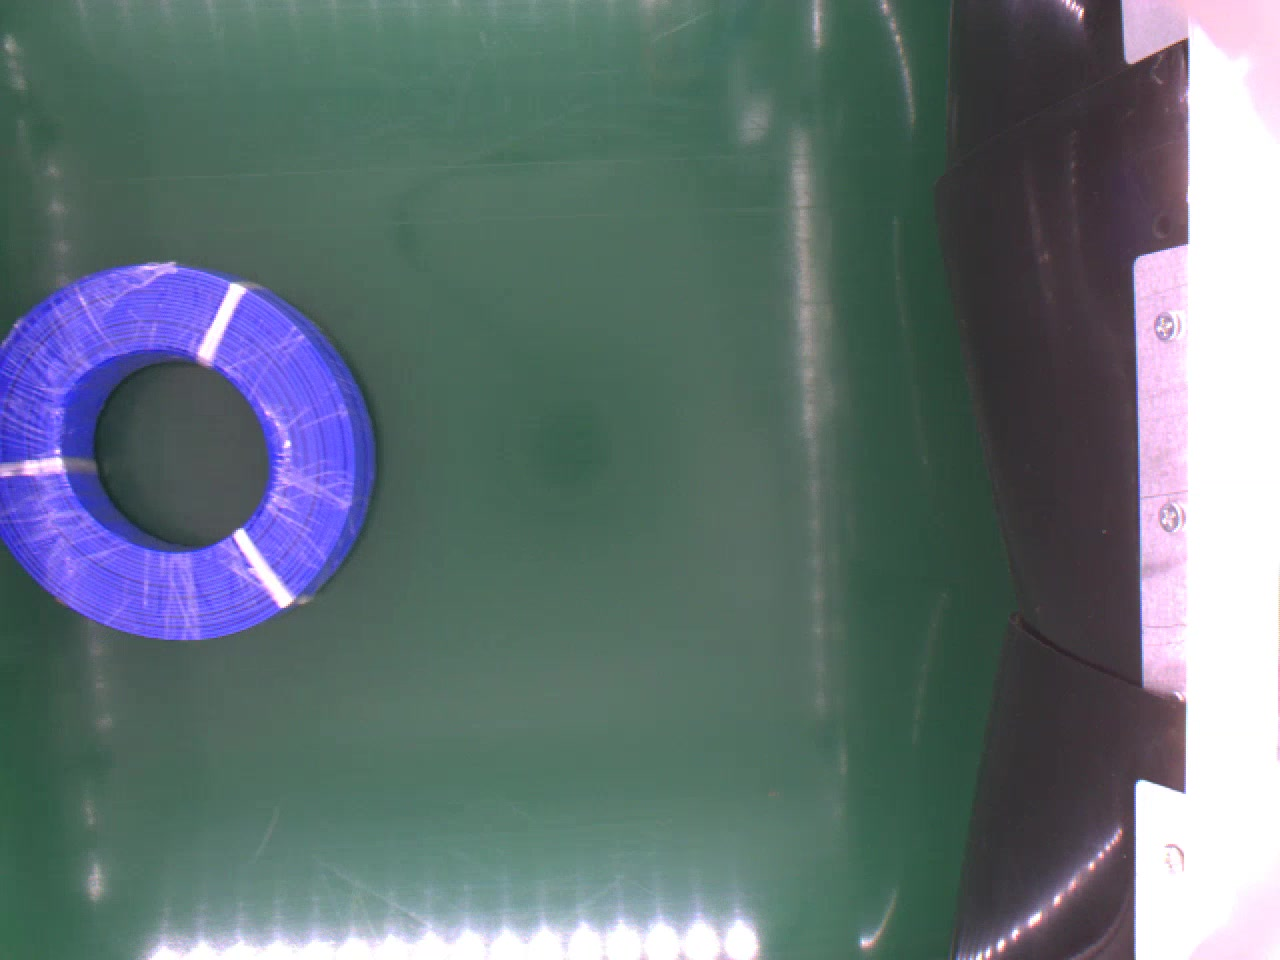blue: (0, 259, 380, 643)
